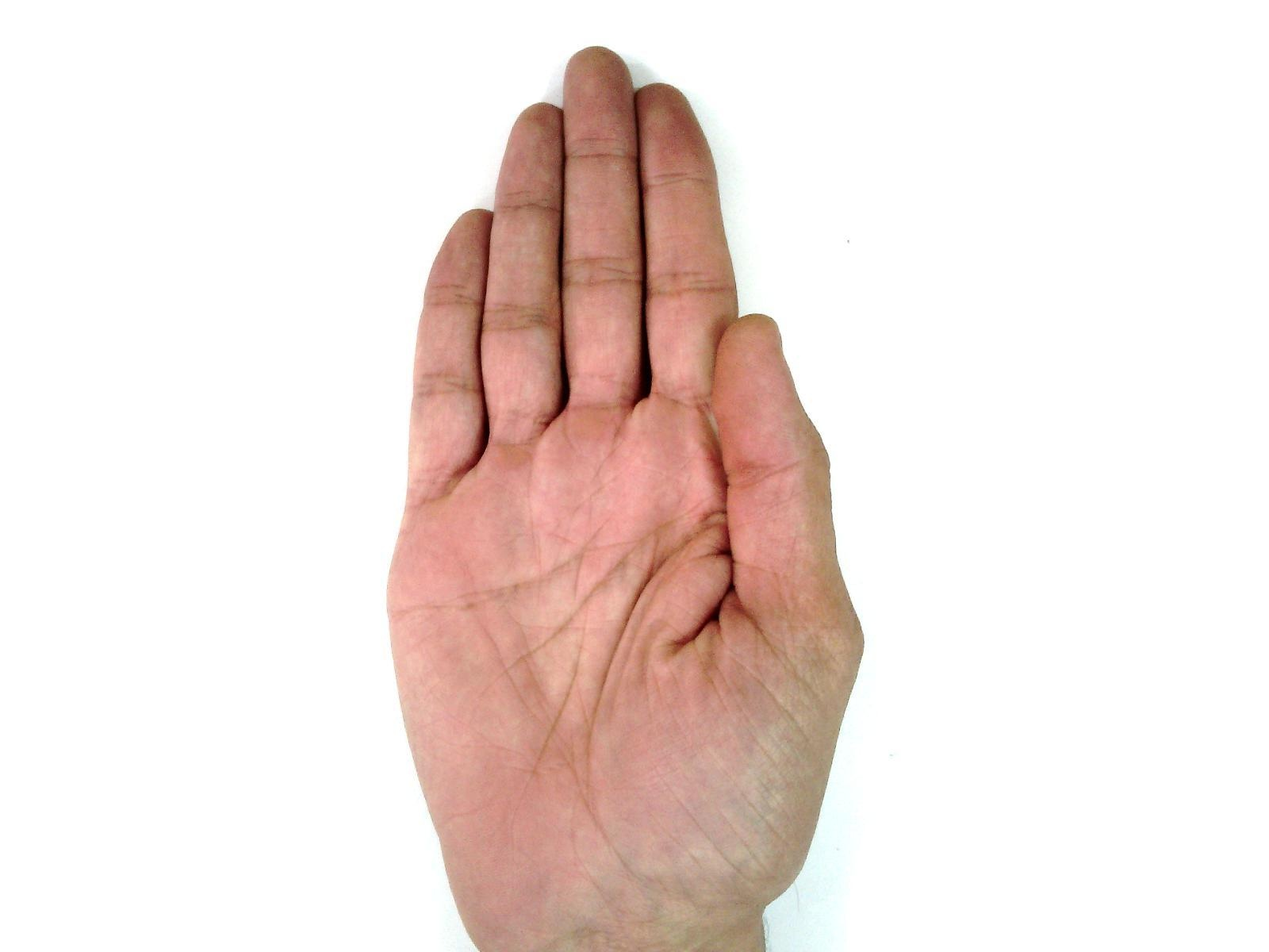open_palm: (383, 46, 868, 950)
